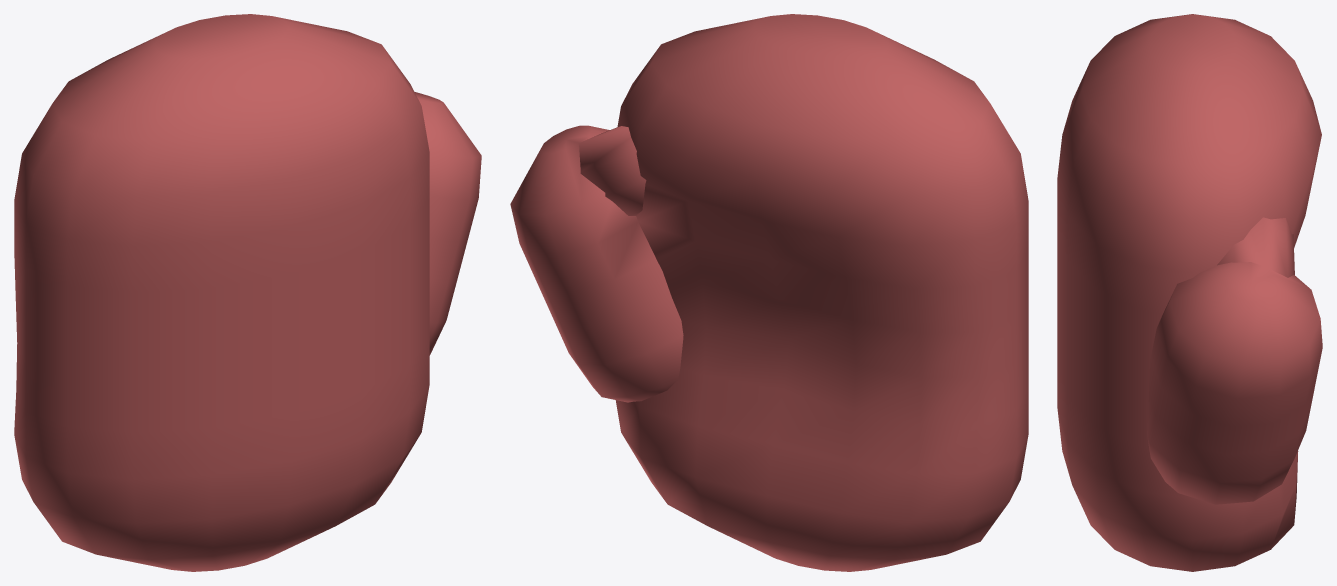
The model's file is glove.glb.
3 views of the same model, side by side, from view 1: azimuth 30°, elevation 25°; view 2: azimuth 150°, elevation 25°; view 3: azimuth 270°, elevation 25° (orthographic). The views are drawn at different scales.
Visible parts, largest first — view 1: glove; view 2: glove; view 3: glove.
Part boxes in pixels (x1,y1,x2,y2): glove: (14, 14, 481, 571); glove: (510, 14, 1028, 571); glove: (1057, 14, 1322, 571).
Bounding box in the file's own units: 0.1632 × 0.17 × 0.0823.
